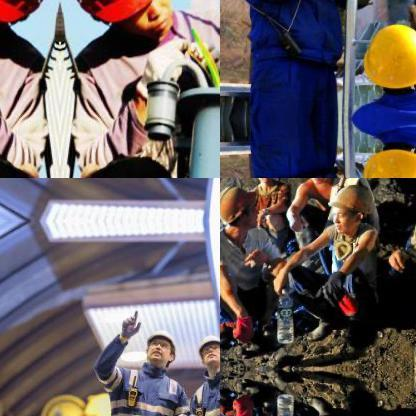Helmet: (356, 18, 415, 96), (62, 0, 180, 34), (324, 182, 372, 233), (356, 138, 415, 177), (0, 0, 55, 36), (220, 183, 255, 231), (141, 326, 177, 368), (194, 330, 219, 375)
